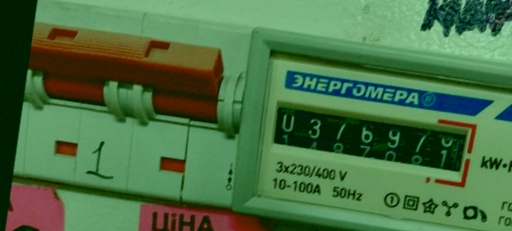0: (280, 110, 298, 133)
1: (437, 147, 449, 170)
3: (307, 116, 323, 139)
6: (359, 120, 377, 145)
7: (333, 117, 350, 142), (412, 128, 429, 153)
9: (386, 125, 402, 149)
screen: (259, 90, 481, 192)
